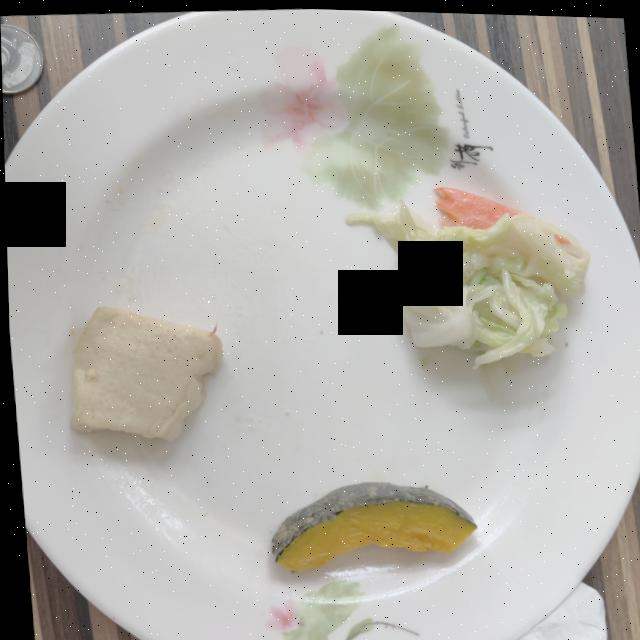cabbage: (344, 184, 589, 396)
coin: (1, 25, 43, 94)
creamy tofu -without sauce-: (68, 306, 221, 439)
pumpkin: (268, 479, 474, 569)
